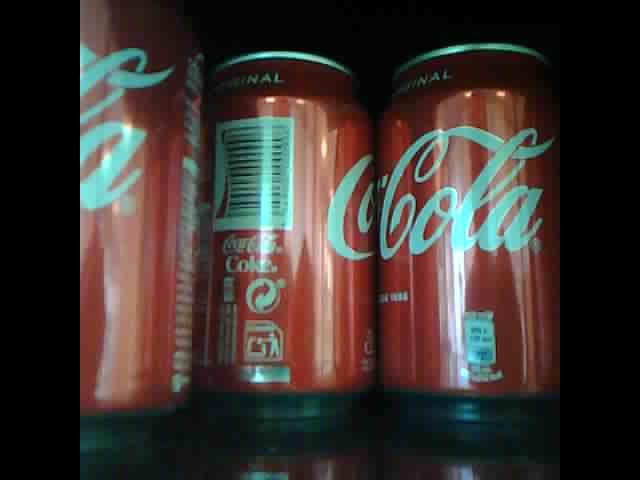coca cola: (376, 41, 561, 398), (207, 44, 378, 397), (79, 2, 208, 431)
